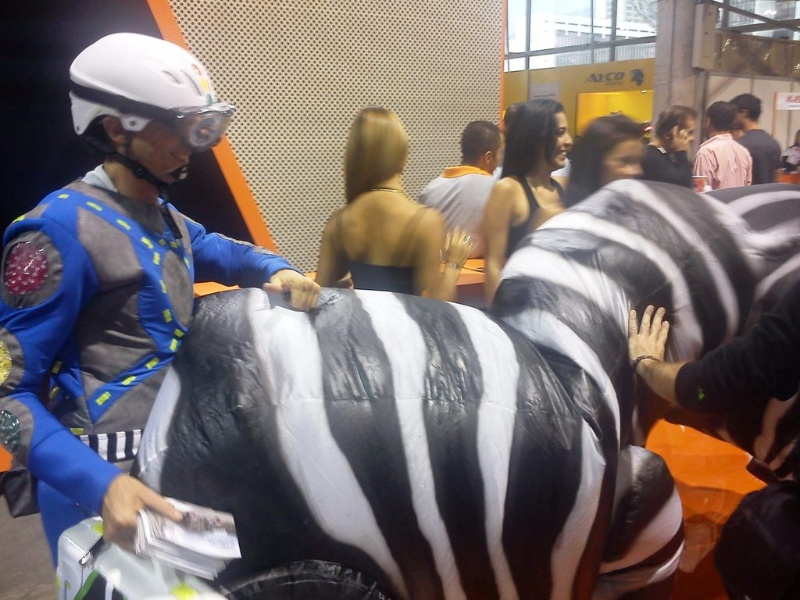baret: (68, 32, 218, 143)
